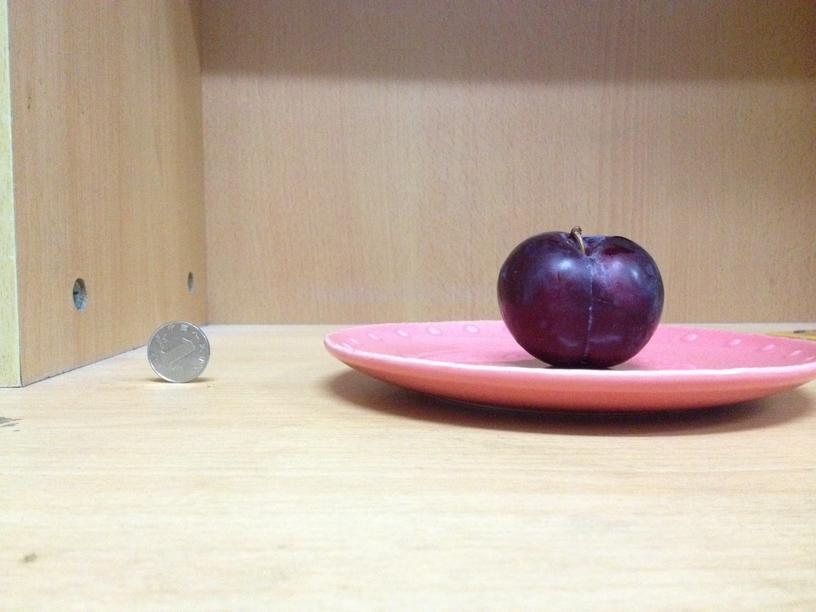coin: (150, 322, 209, 384)
plum: (492, 225, 665, 365)
